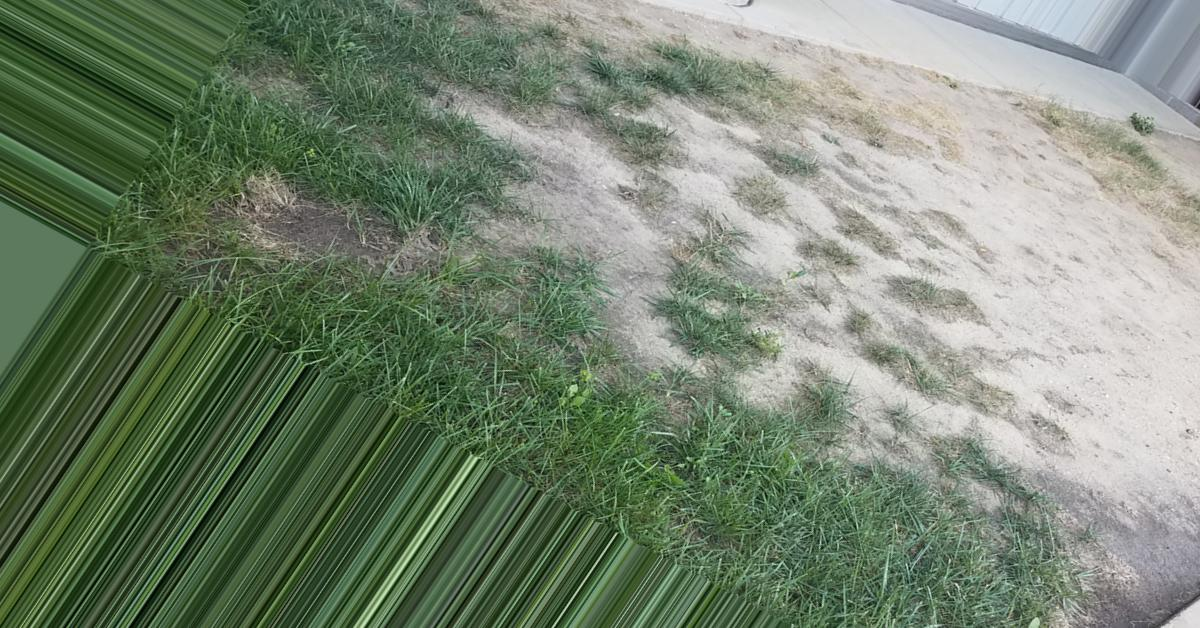patch: (930, 132, 1171, 521), (698, 115, 839, 262), (536, 140, 672, 250)
